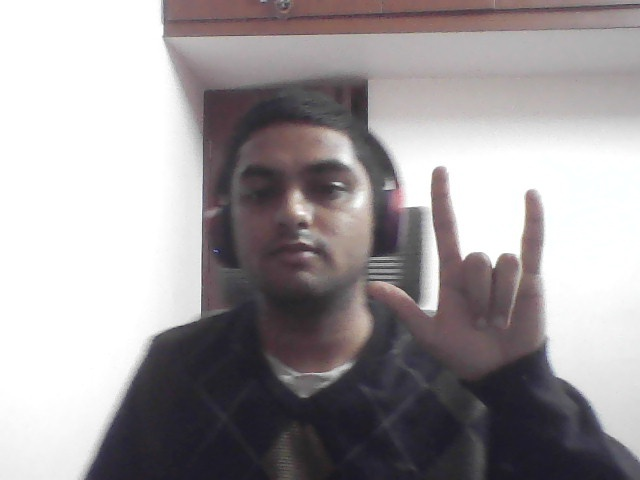I Love You: (356, 149, 571, 403)
